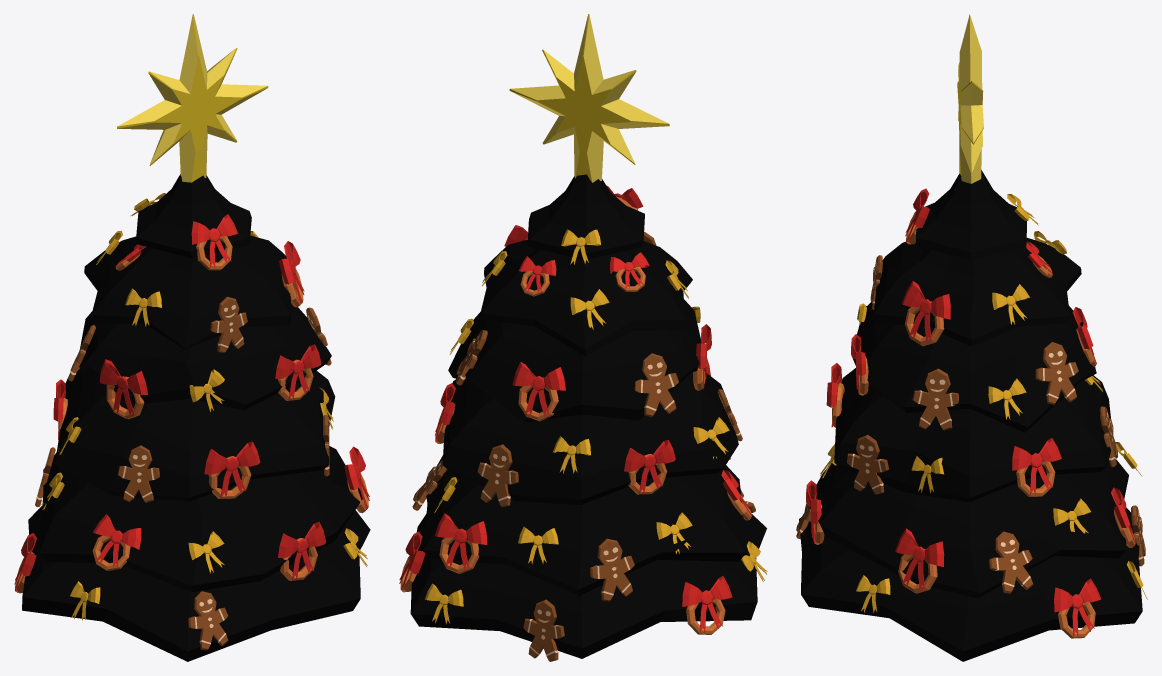
File: Christmas_tree_decorated.fbx
3 renders of one model, left to right at view 1: azimuth 30°, elevation 25°; view 2: azimuth 150°, elevation 25°; view 3: azimuth 270°, elevation 25°, orthographic.
Parts seen in each view (by area): view 1: Christmas_tree.001; view 2: Christmas_tree.001; view 3: Christmas_tree.001.
Part boxes in pixels (left/top/right/bottom): Christmas_tree.001: left=14, top=14, right=370, bottom=661; Christmas_tree.001: left=399, top=14, right=767, bottom=661; Christmas_tree.001: left=796, top=14, right=1147, bottom=661.
Size of the model in its own units: 208 by 352 by 186.
